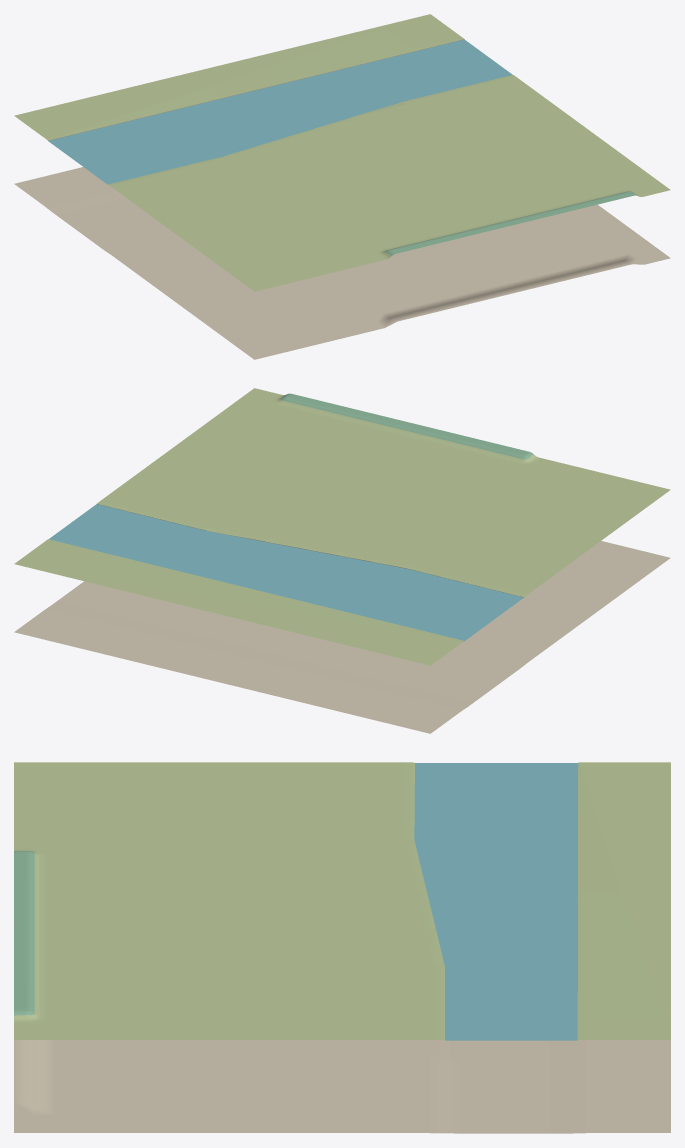
3 views of the same model, one above another, from view 1: azimuth 30°, elevation 25°; view 2: azimuth 150°, elevation 25°; view 3: azimuth 270°, elevation 25° (orthographic). The views are drawn at different scales.
Visible parts, largest first — view 1: s_0_-7__grass, s_0_-7__soil, s_0_-7__water, s_0_-7__green_court; view 2: s_0_-7__grass, s_0_-7__soil, s_0_-7__water, s_0_-7__green_court; view 3: s_0_-7__grass, s_0_-7__soil, s_0_-7__water, s_0_-7__green_court.
Part boxes in pixels (bbox=[...]): s_0_-7__grass: bbox=[14, 14, 670, 291]; s_0_-7__soil: bbox=[14, 167, 670, 359]; s_0_-7__water: bbox=[48, 39, 512, 184]; s_0_-7__green_court: bbox=[385, 191, 637, 255]; s_0_-7__grass: bbox=[14, 388, 670, 665]; s_0_-7__soil: bbox=[14, 541, 670, 733]; s_0_-7__water: bbox=[49, 504, 523, 640]; s_0_-7__green_court: bbox=[281, 393, 533, 459]; s_0_-7__grass: bbox=[14, 762, 670, 1040]; s_0_-7__soil: bbox=[14, 1040, 670, 1133]; s_0_-7__water: bbox=[414, 763, 578, 1040]; s_0_-7__green_court: bbox=[14, 851, 34, 1015].
Bounding box in the file's own units: 128 × 21.14 × 128.
